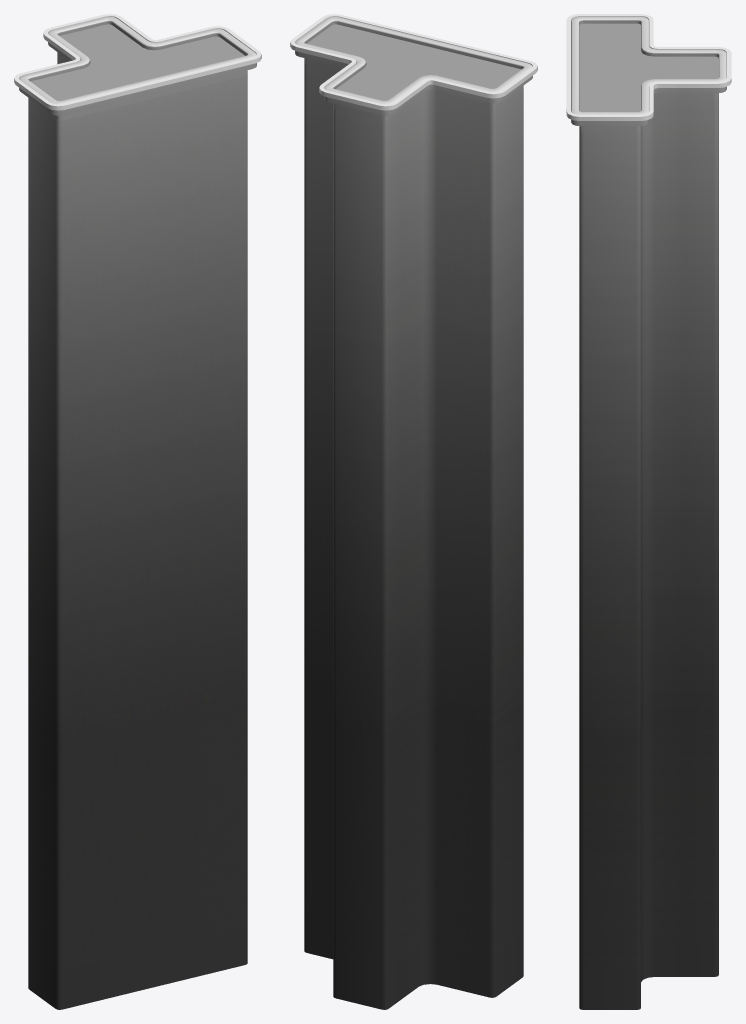
File: BLOCK_3D_T2.fbx
3 views of the same model, side by side, from view 1: azimuth 30°, elevation 25°; view 2: azimuth 150°, elevation 25°; view 3: azimuth 270°, elevation 25° (orthographic).
Parts seen in each view (by area): view 1: T_5_1, T_5_1.001, OUTLINE; view 2: T_5_1, T_5_1.001, OUTLINE; view 3: T_5_1, T_5_1.001, OUTLINE.
Boxes of the visible parts, x1,y1,x2,y2 form: T_5_1: [19, 16, 256, 1009]; T_5_1.001: [28, 24, 247, 120]; OUTLINE: [14, 14, 261, 110]; T_5_1: [295, 16, 532, 1009]; T_5_1.001: [304, 24, 523, 120]; OUTLINE: [290, 14, 537, 110]; T_5_1: [571, 16, 726, 1009]; T_5_1.001: [579, 23, 718, 131]; OUTLINE: [566, 14, 731, 120].
Bounding box in the file's own units: 312 × 1270 × 212.
